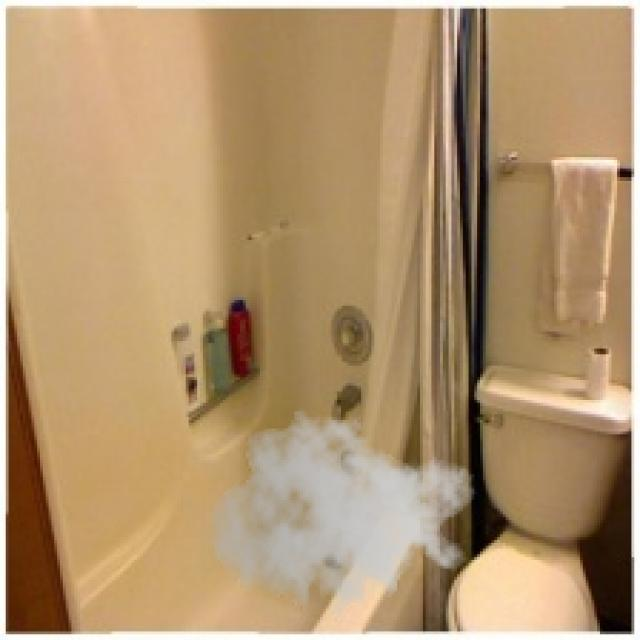Smoke: (208, 403, 478, 631)
